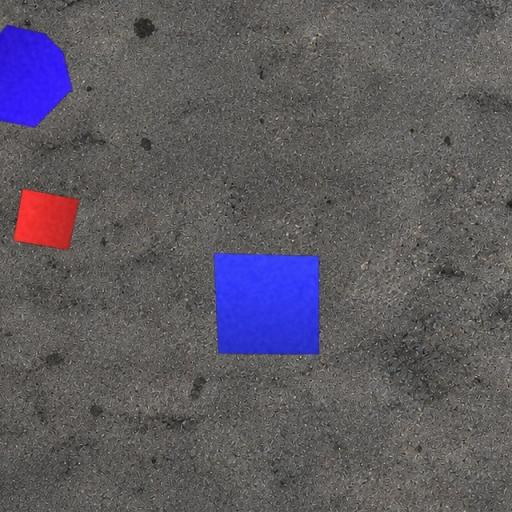BLUE_SQUARE: (214, 252, 320, 355)
RED_SQUARE: (13, 188, 81, 250)
